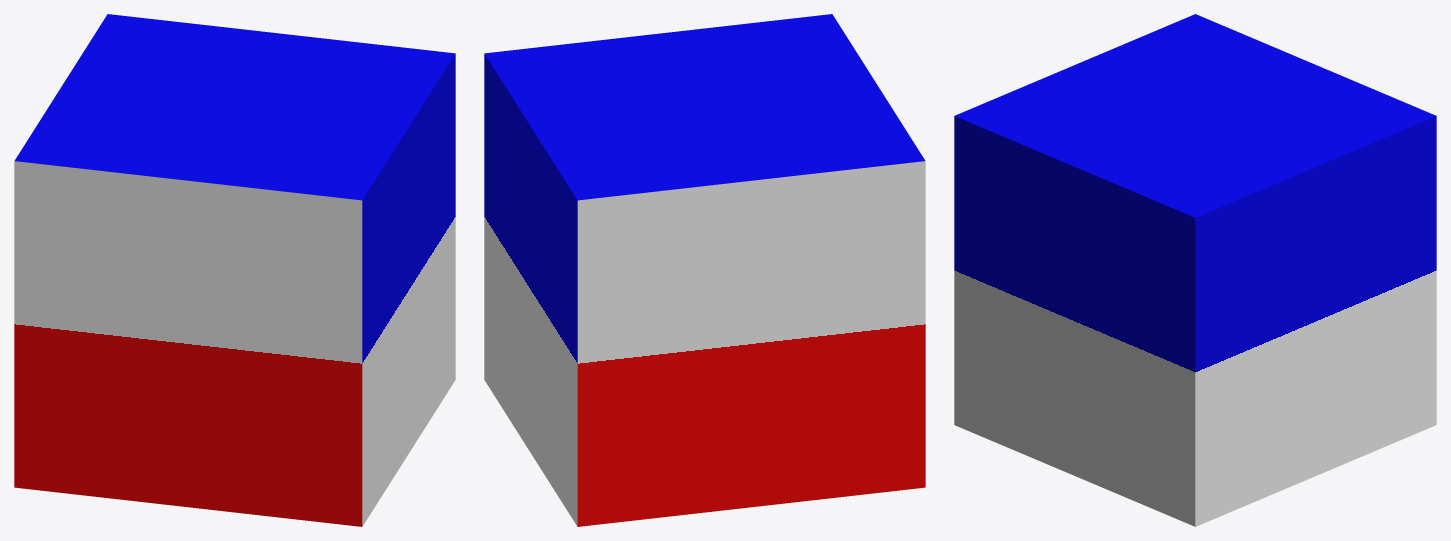
Rendered from crate.glb.
3 renders of one model, left to right at view 1: azimuth 30°, elevation 25°; view 2: azimuth 150°, elevation 25°; view 3: azimuth 270°, elevation 25°, orthographic. The views are drawn at different scales.
Visible parts, largest first — view 1: Cube; view 2: Cube; view 3: Cube.
Part boxes in pixels (box(x1,y1,x2,y2)): Cube: box(14, 14, 455, 526); Cube: box(484, 14, 925, 526); Cube: box(954, 14, 1436, 526).
Size of the model in its own units: 1.41 by 1 by 1.41.
1 material, 1 textured.
